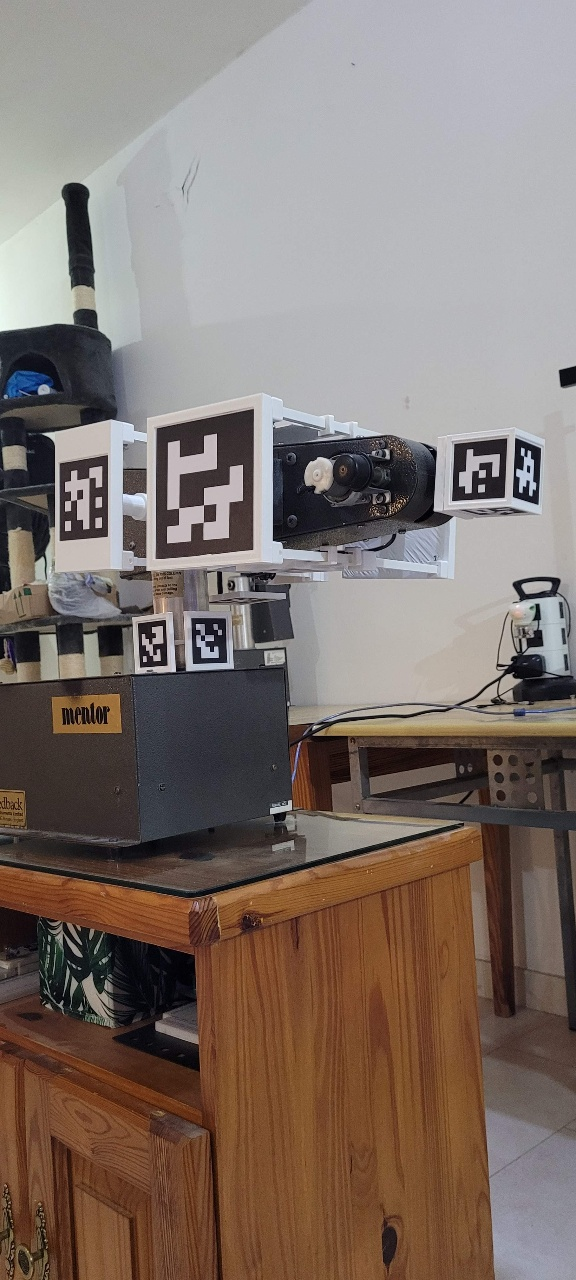Robot: (74, 269, 562, 1280)
